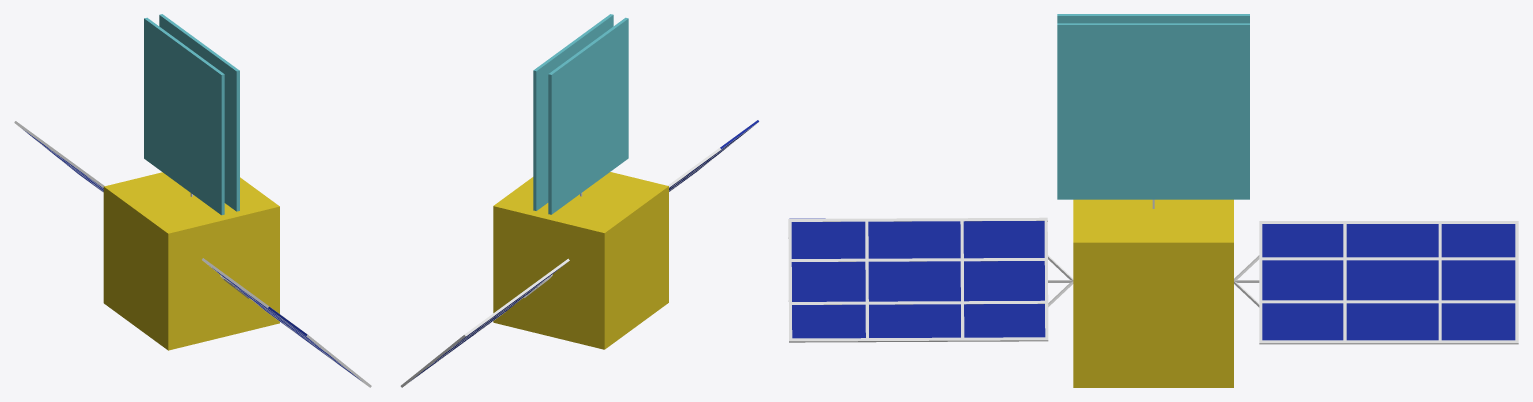
File: Satellite.fbx
The picture shows the model from 3 angles, left to right: view 1: azimuth 30°, elevation 25°; view 2: azimuth 150°, elevation 25°; view 3: azimuth 270°, elevation 25°; orthographic projection. The views are drawn at different scales.
Parts seen in each view (by area): view 1: Cube, Plane.001, Cylinder.005, Plane; view 2: Cube, Plane.001, Cylinder.005, Plane; view 3: Plane, Plane.001, Cube, Cylinder.005.
Part boxes in pixels (x1,y1,x2,y2): Cube: (103, 172, 279, 350); Plane.001: (144, 14, 239, 215); Cylinder.005: (14, 121, 371, 387); Plane: (25, 131, 360, 380); Cube: (493, 172, 668, 349); Plane.001: (533, 14, 628, 214); Cylinder.005: (400, 121, 759, 387); Plane: (411, 120, 758, 380); Plane: (789, 218, 1515, 340); Plane.001: (1057, 14, 1249, 199); Cube: (1073, 199, 1233, 387); Cylinder.005: (788, 217, 1518, 344).
Size of the model in its own units: 100 by 230 by 455.
